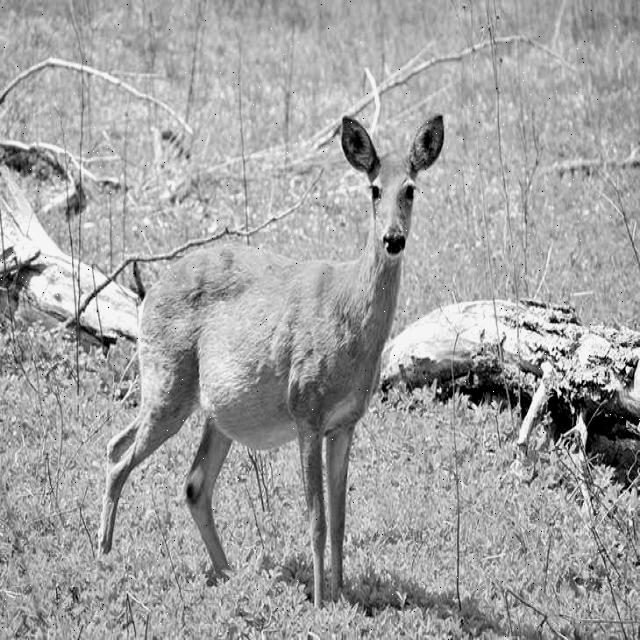deer: (344, 100, 440, 268)
